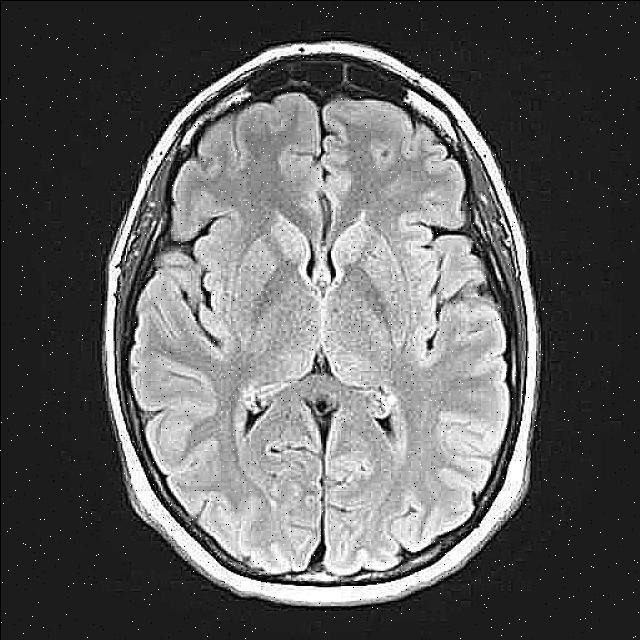No_Tumor: (103, 41, 539, 605)
